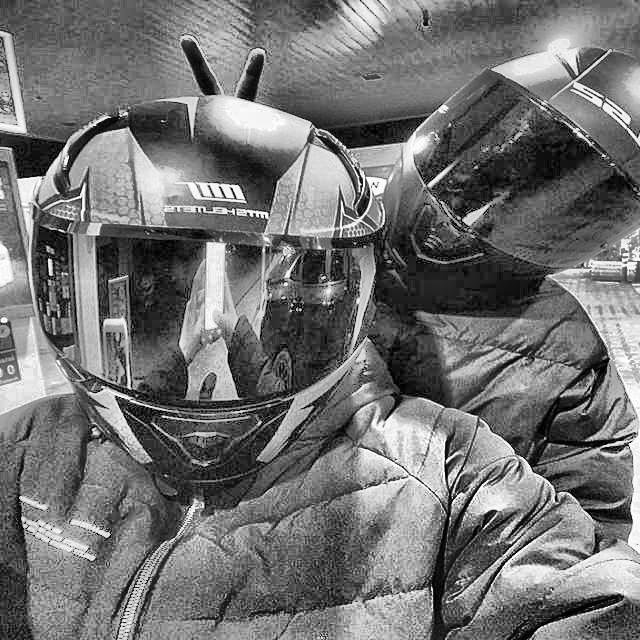Helmet: (19, 86, 396, 509), (373, 37, 640, 301)
